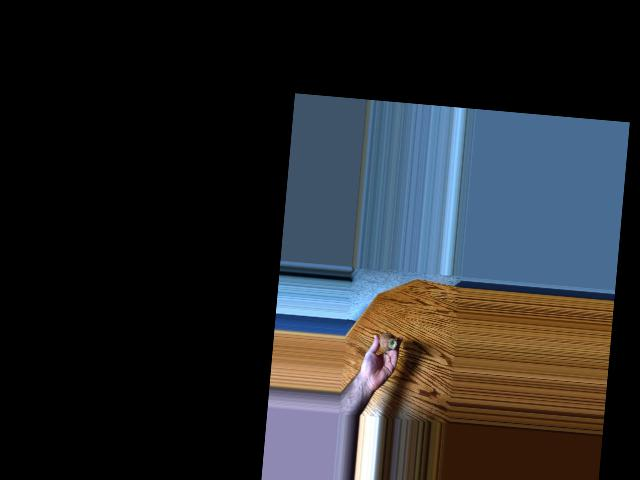sweet_potato: (378, 330, 397, 351)
